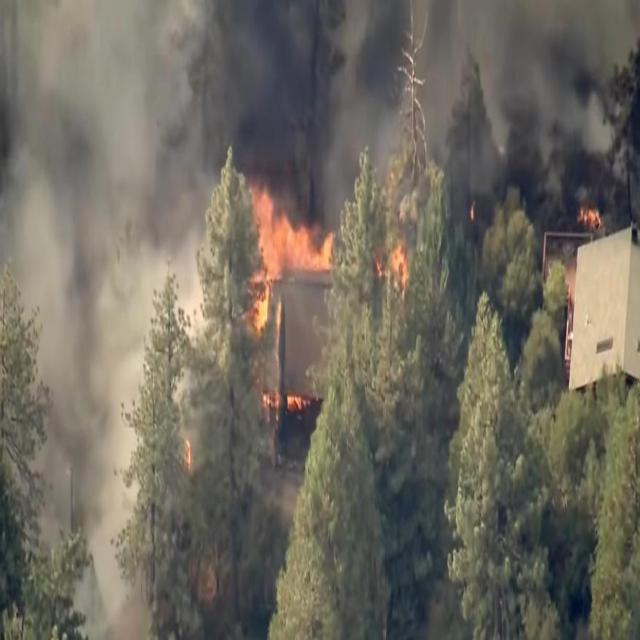fire: (242, 185, 338, 331)
